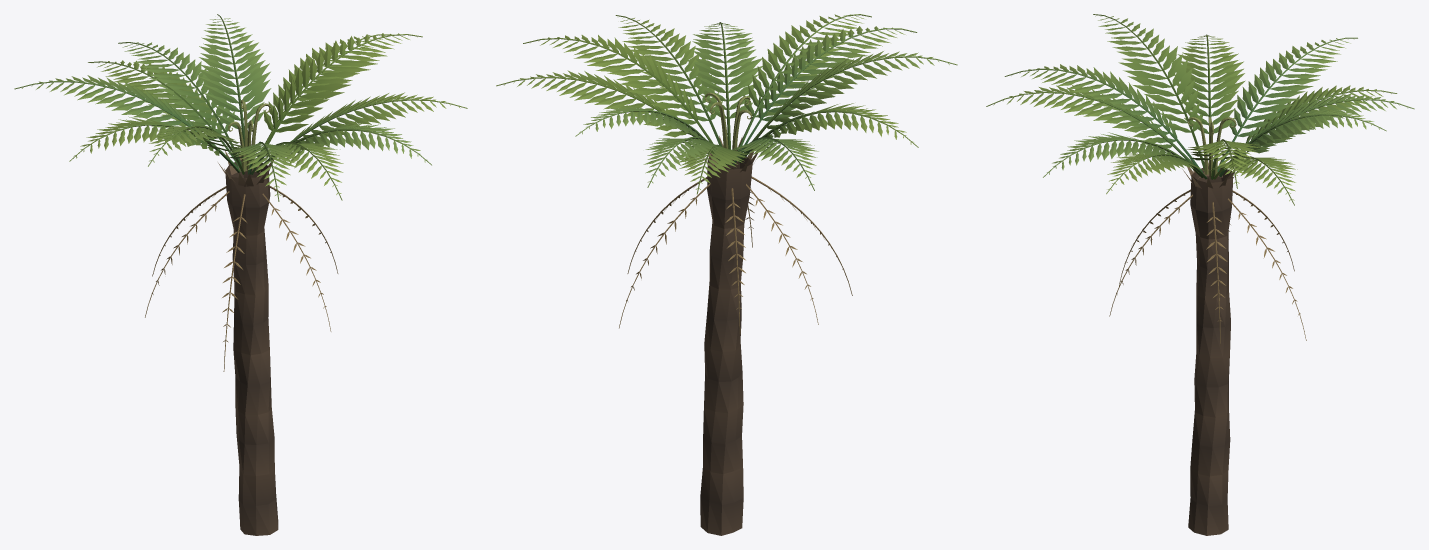
Rendered from tree_fern_c.glb.
3 renders of one model, left to right at view 1: azimuth 30°, elevation 25°; view 2: azimuth 150°, elevation 25°; view 3: azimuth 270°, elevation 25°, orthographic. The views are drawn at different scales.
Parts seen in each view (by area): view 1: tree_fern_c; view 2: tree_fern_c; view 3: tree_fern_c.
Boxes of the visible parts, x1=… form: tree_fern_c: x1=14, y1=14, x2=467, y2=535; tree_fern_c: x1=496, y1=14, x2=957, y2=535; tree_fern_c: x1=986, y1=14, x2=1414, y2=535.
Bounding box in the file's own units: 4.25 × 5.03 × 4.41.
